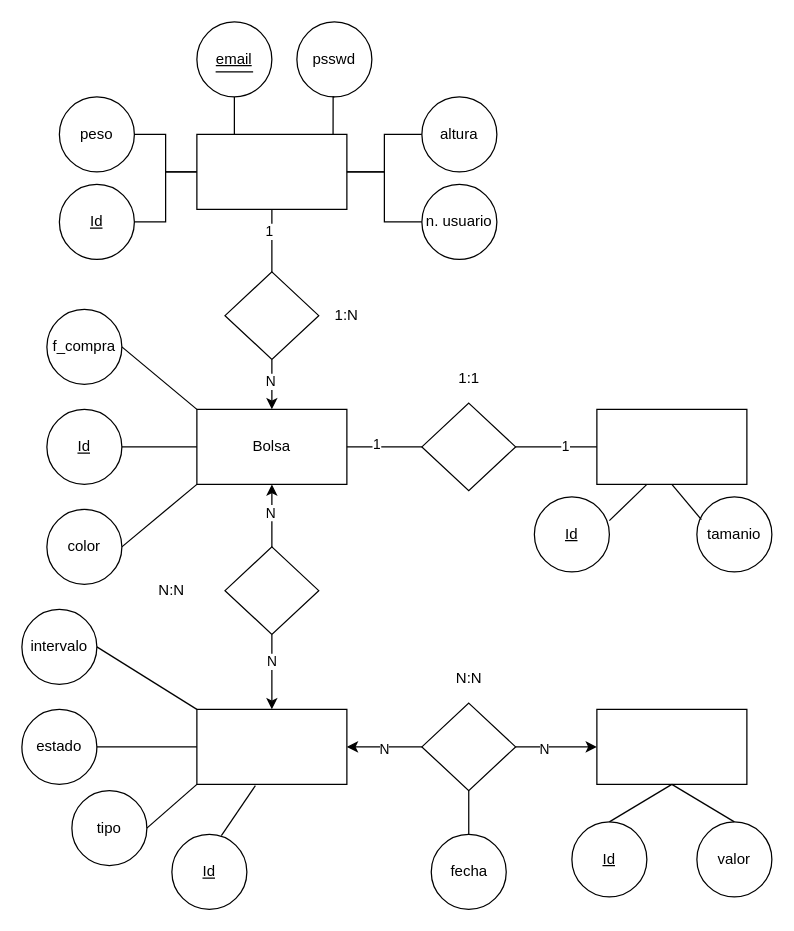
The diagram is 794 pixels wide and 931 high, and some of its shapes have lost their labels. Each missing label, with the centre of its shape:
"Botella" belongs at pixel 671 446.
"contiene" belongs at pixel 271 590.
"Cuenta" belongs at pixel 271 171.
"guarda" belongs at pixel 468 446.
"hacer" belongs at pixel 468 746.
"Medidas" belongs at pixel 671 746.
"Sensores" belongs at pixel 271 746.
"usa" belongs at pixel 271 315.
